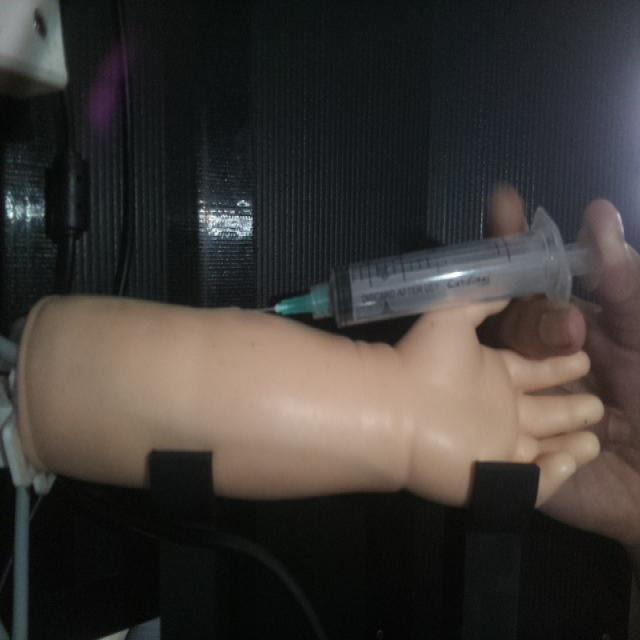Outside: (237, 204, 595, 331)
